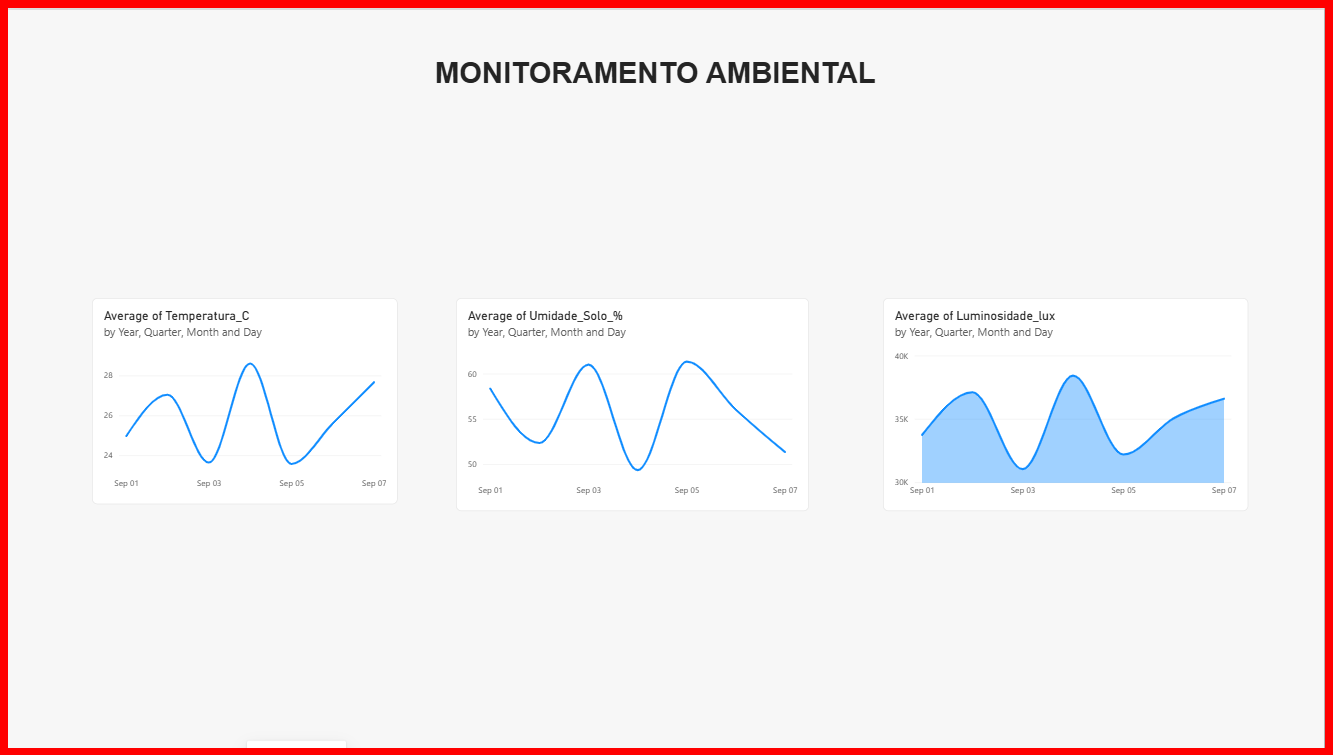

The page's visual inventory and layout, read from the dashboard file:
{"tool":"powerbi","page":{"name":"monitoramento ","canvas":[1920,1080],"ordinal":1},"visuals":[{"type":"textbox","box":[623,67.1,892.9,280.1],"z":0},{"type":"lineChart","fields":{"Category":["dados_agrosmart.Data.Variation.Date Hierarchy.Year","dados_agrosmart.Data.Variation.Date Hierarchy.Quarter","dados_agrosmart.Data.Variation.Date Hierarchy.Month","dados_agrosmart.Data.Variation.Date Hierarchy.Day"],"Y":["Avg(dados_agrosmart.Temperatura_C)"]},"box":[122.6,420.2,446.4,300.5],"z":1000},{"type":"lineChart","fields":{"Category":["dados_agrosmart.Data.Variation.Date Hierarchy.Year","dados_agrosmart.Data.Variation.Date Hierarchy.Quarter","dados_agrosmart.Data.Variation.Date Hierarchy.Month","dados_agrosmart.Data.Variation.Date Hierarchy.Day"],"Y":["Avg(dados_agrosmart.Umidade_Solo_%)"]},"box":[653.6,420.2,515,310.8],"z":2000},{"type":"areaChart","fields":{"Category":["dados_agrosmart.Data.Variation.Date Hierarchy.Year","dados_agrosmart.Data.Variation.Date Hierarchy.Quarter","dados_agrosmart.Data.Variation.Date Hierarchy.Month","dados_agrosmart.Data.Variation.Date Hierarchy.Day"],"Y":["Avg(dados_agrosmart.Luminosidade_lux)"]},"box":[1276.6,420.2,532.5,310.8],"z":3000}]}

Visuals, with their boxes in screenshot pixels (x1, y1, x2, y2), scaled from the page's 1920x1080 canvas onto the 1333x755 screenshot:
textbox: crop(433, 47, 1052, 243)
lineChart - dados_agrosmart.Data.Variation.Date Hierarchy.Year x dados_agrosmart.Data.Variation.Date Hierarchy.Quarter: crop(85, 294, 395, 504)
lineChart - dados_agrosmart.Data.Variation.Date Hierarchy.Year x dados_agrosmart.Data.Variation.Date Hierarchy.Quarter: crop(454, 294, 811, 511)
areaChart - dados_agrosmart.Data.Variation.Date Hierarchy.Year x dados_agrosmart.Data.Variation.Date Hierarchy.Quarter: crop(886, 294, 1256, 511)
